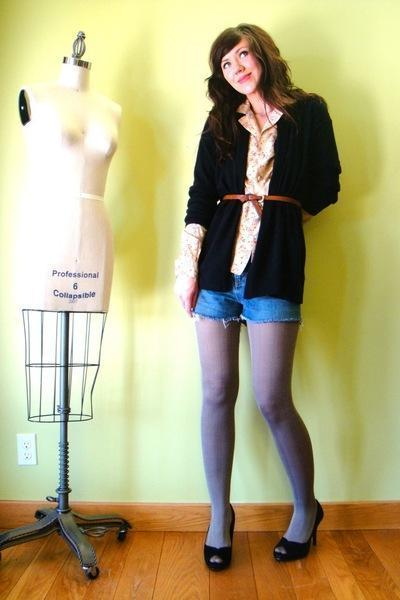jacket: (185, 95, 341, 315)
shirt: (231, 139, 273, 275)
shoe: (204, 516, 322, 572)
shorts: (190, 277, 292, 323)
